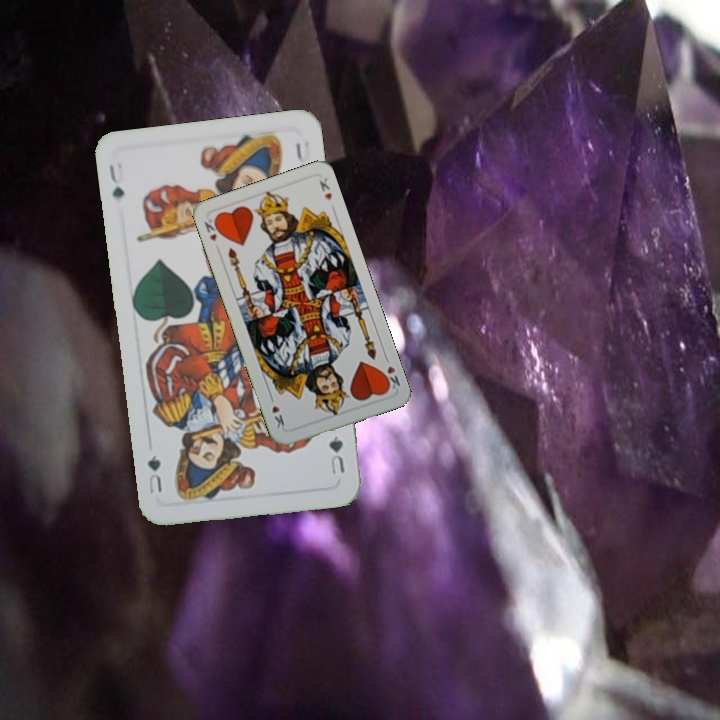GU: (324, 422, 348, 477), (105, 160, 127, 202)
HK: (378, 362, 402, 393), (200, 214, 224, 244)
